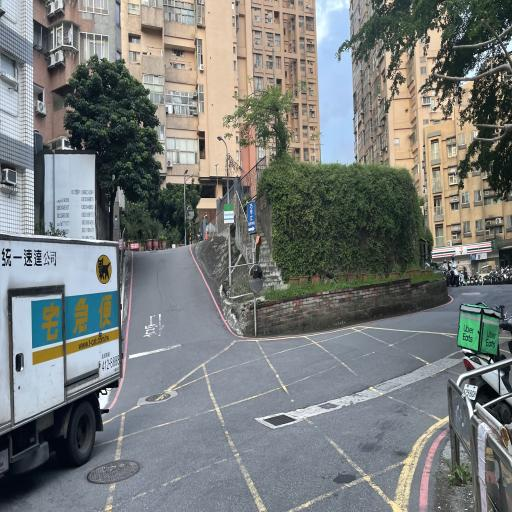MIU: (79, 354, 136, 450)
car: (1, 219, 128, 495)
redline: (104, 236, 139, 429), (188, 240, 238, 344)
